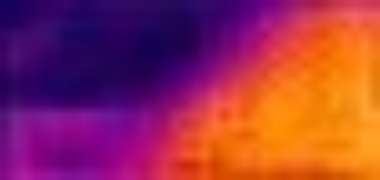Shadow: (1, 1, 277, 105)
